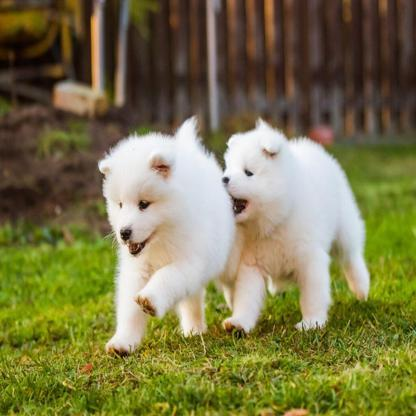dog: (220, 113, 388, 350), (85, 110, 235, 352)
